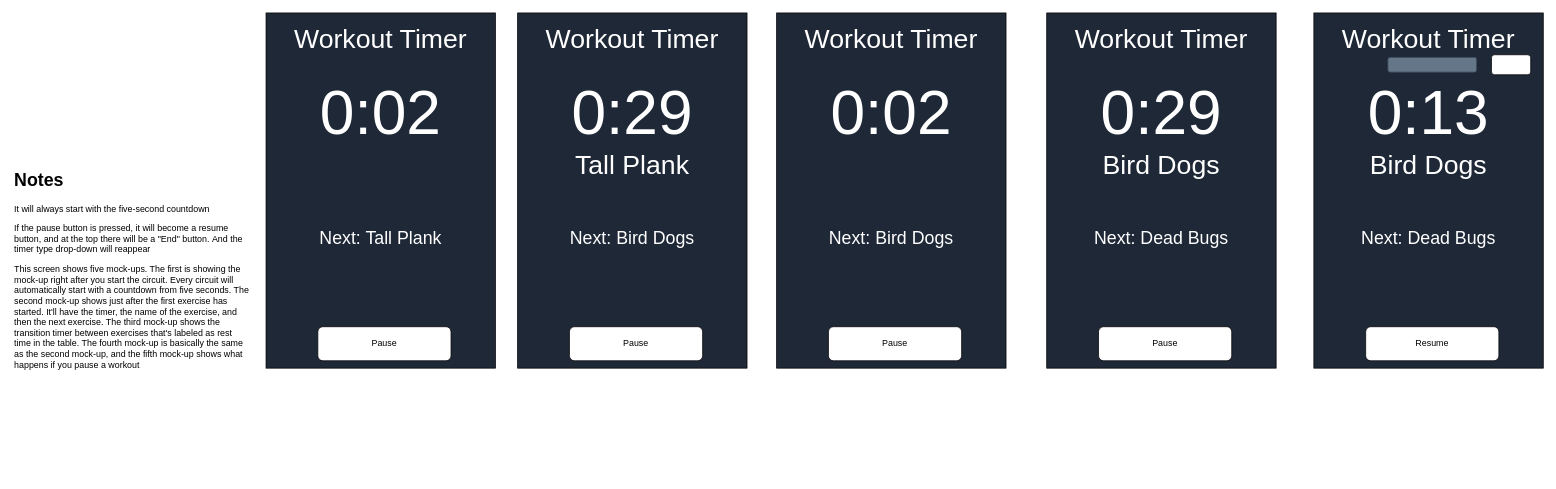
Some shapes in this 1556 by 489 pixel diagram are drawn without their labels. Here are the shapes that lost their labels. From the top down, the centre of each, then its label:
At pixel 1432 64: "Circuit Timer".
At pixel 1511 64: "End".
